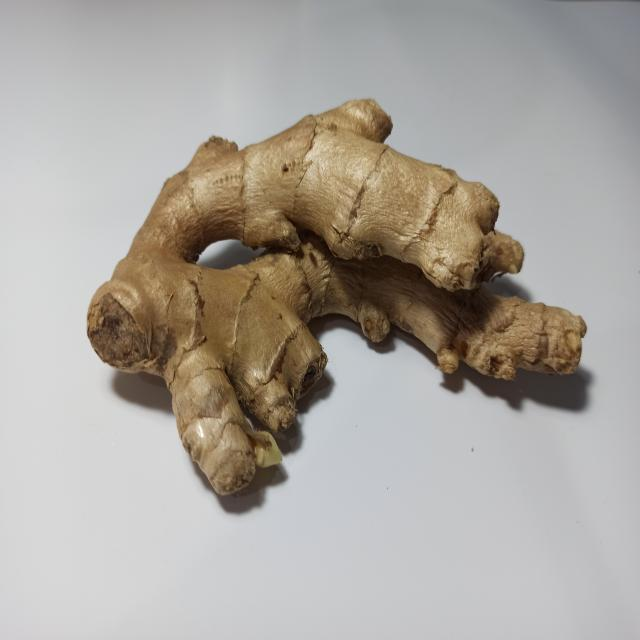ginger: (82, 109, 570, 466)
